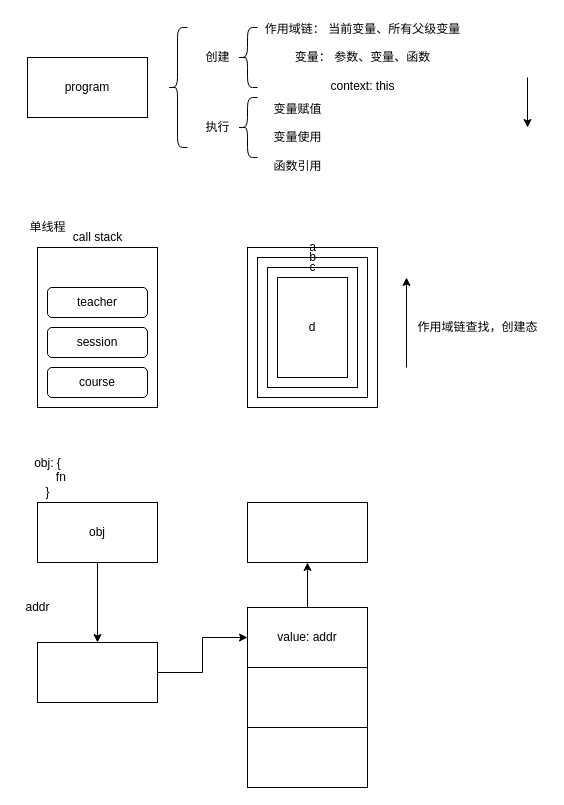
Some shapes in this 564 by 805 pixel diagram are drawn without their labels. The shapes that lost their labels are listed below. From the top down, each one's centre as x and y in pixels, then its label:
At point 307,532: "function fn(){}".
At point 97,672: "fn".
